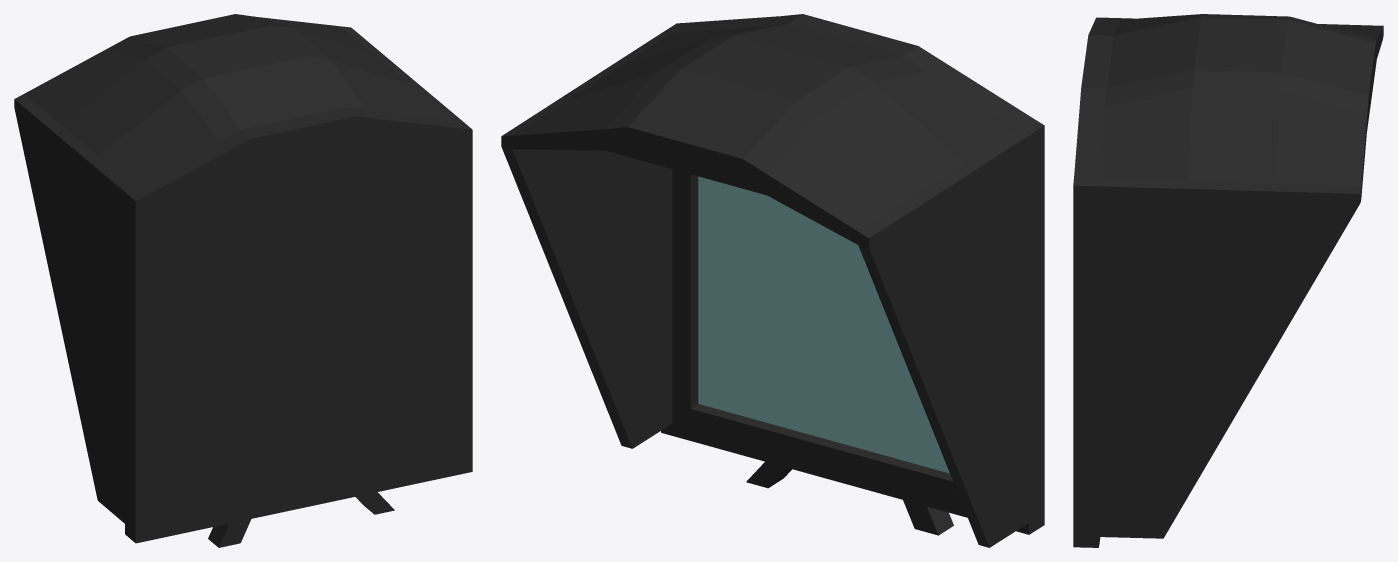
File: monitor.fbx
The picture shows the model from 3 angles, left to right: view 1: azimuth 30°, elevation 25°; view 2: azimuth 150°, elevation 25°; view 3: azimuth 270°, elevation 25°; orthographic projection. The views are drawn at different scales.
Parts seen in each view (by area): view 1: Monitor; view 2: Monitor; view 3: Monitor.
Boxes of the visible parts, x1,y1,x2,y2 form: Monitor: (14,14,472,547); Monitor: (501,14,1044,547); Monitor: (1073,14,1383,547).
Bounding box in the file's own units: 2.22 × 2.63 × 1.66.
